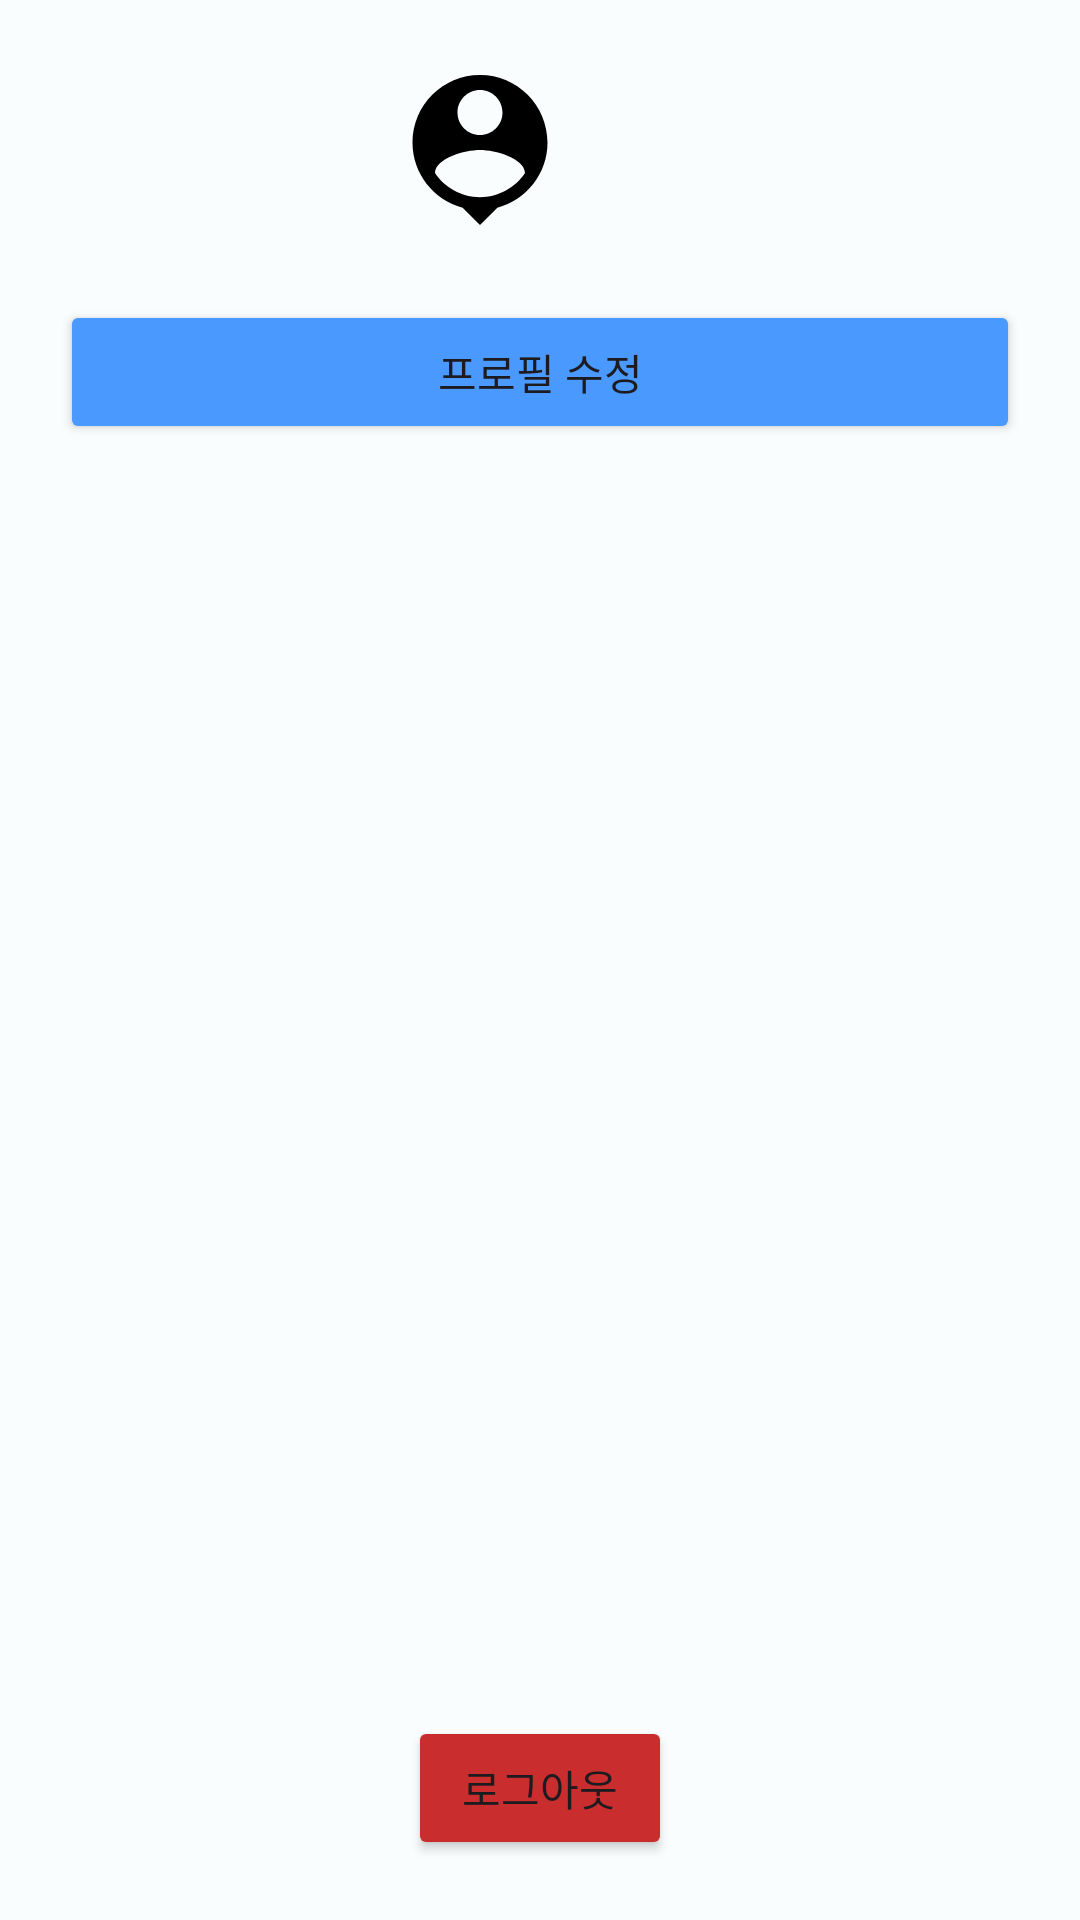

Named icons in this screenshot (1080 x 1920) and their centers, point (x, y):
person: point (480, 150)
